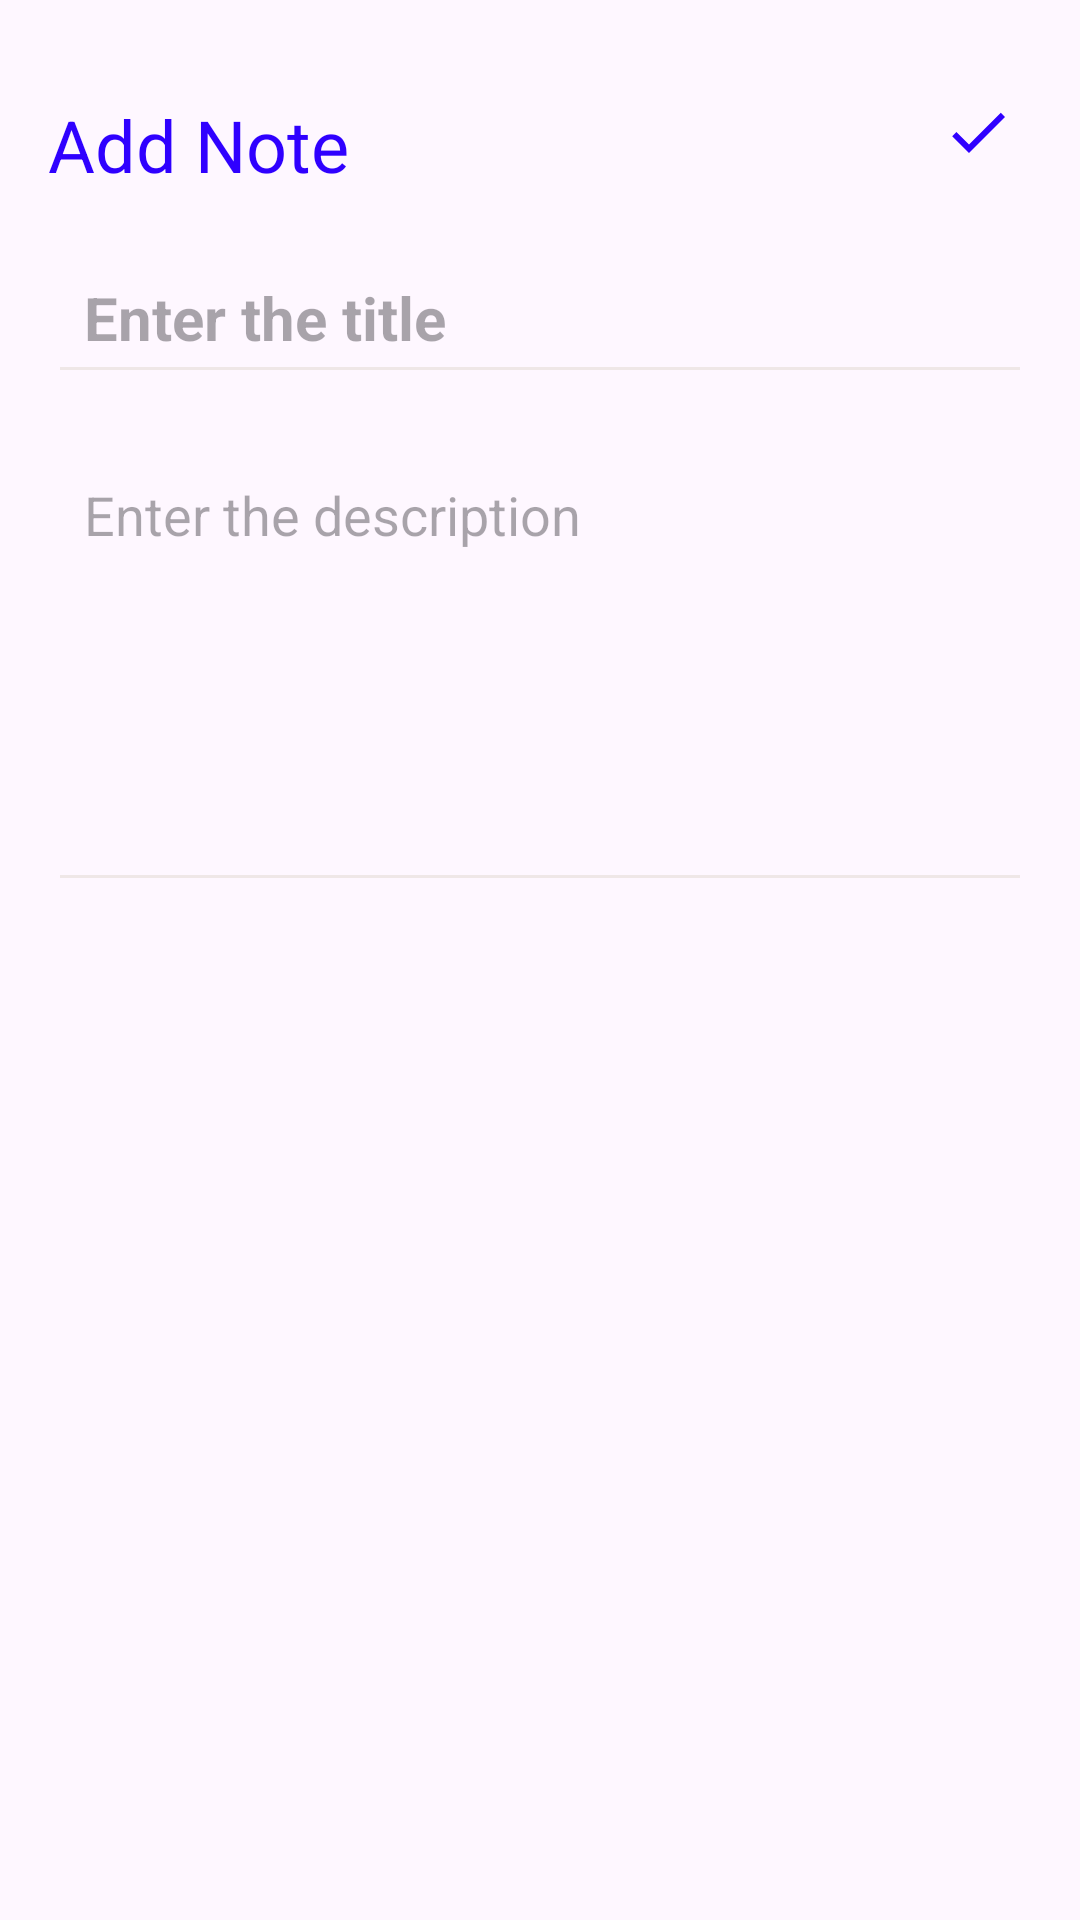

Icon bounding boxes for this 1080 x 1920 phone screenshot, format bbox=(x1, y1, x2, y2):
done: bbox=(952, 113, 1005, 153)
